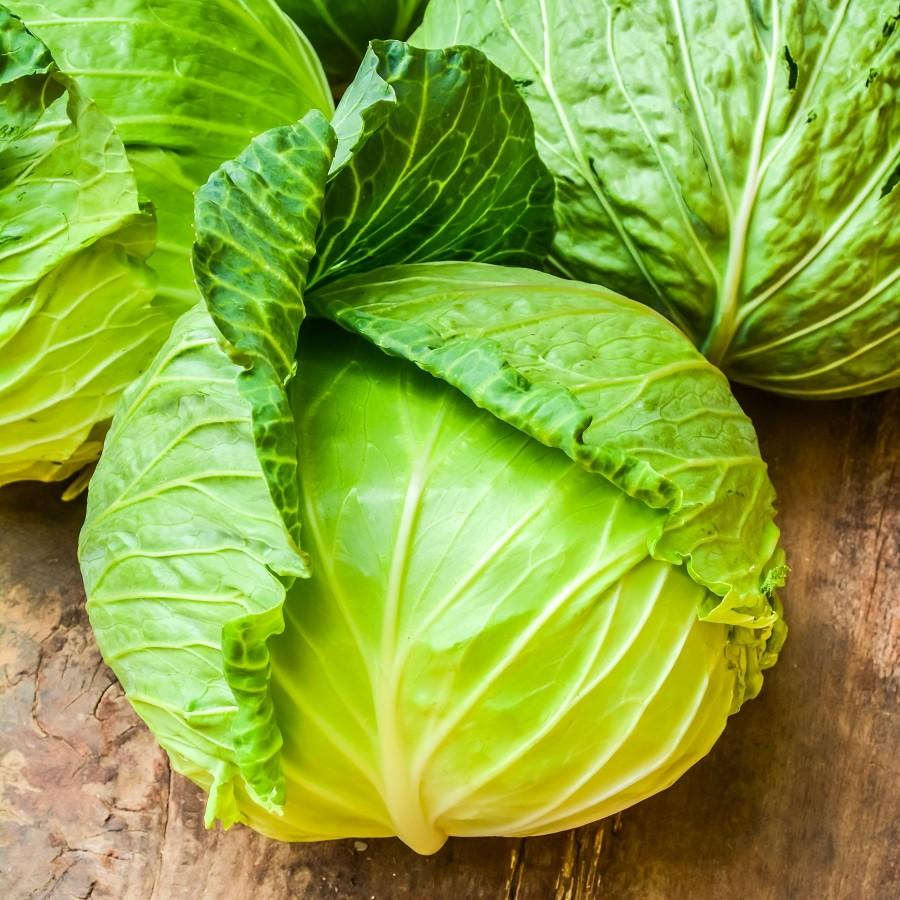cabbage: (74, 35, 791, 855), (403, 0, 898, 401), (0, 0, 336, 498)
